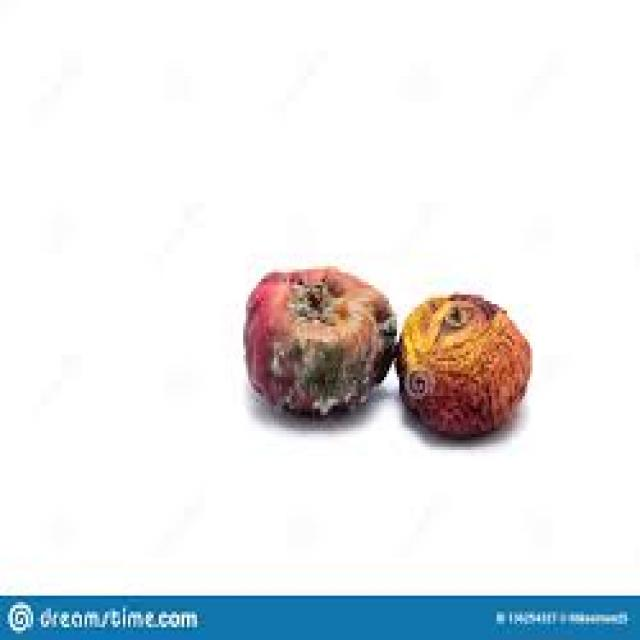organic waste: (240, 266, 396, 418), (392, 292, 530, 441)
